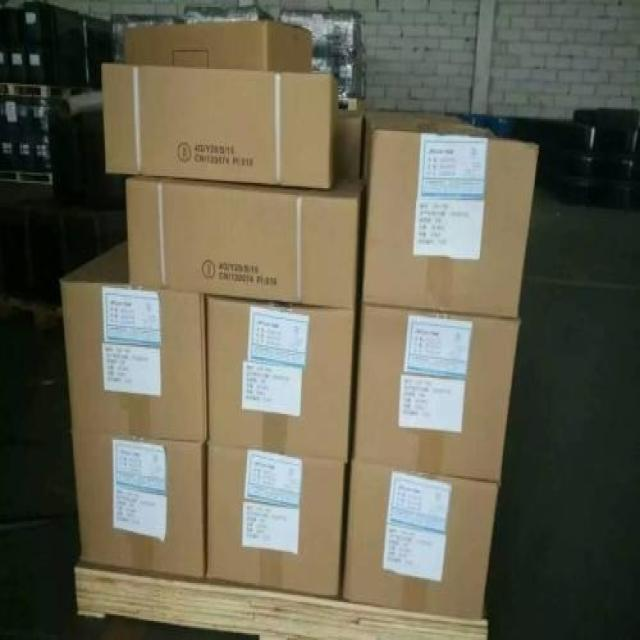box: (361, 112, 539, 319), (125, 174, 365, 311), (352, 300, 520, 483), (59, 240, 207, 443), (101, 64, 340, 188), (342, 461, 499, 623), (207, 295, 355, 464), (206, 445, 346, 597), (70, 428, 206, 580), (123, 21, 312, 71), (280, 9, 361, 60), (113, 14, 183, 64), (312, 59, 367, 98), (339, 109, 365, 178), (186, 7, 274, 22)
